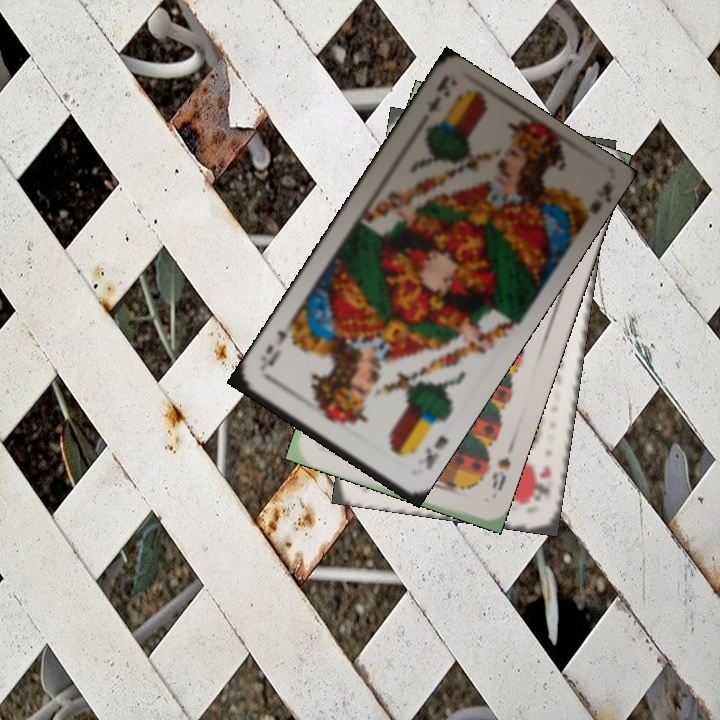EK: (420, 431, 451, 472), (424, 75, 453, 116)
HK: (530, 461, 554, 504)
S8: (487, 452, 514, 494)
